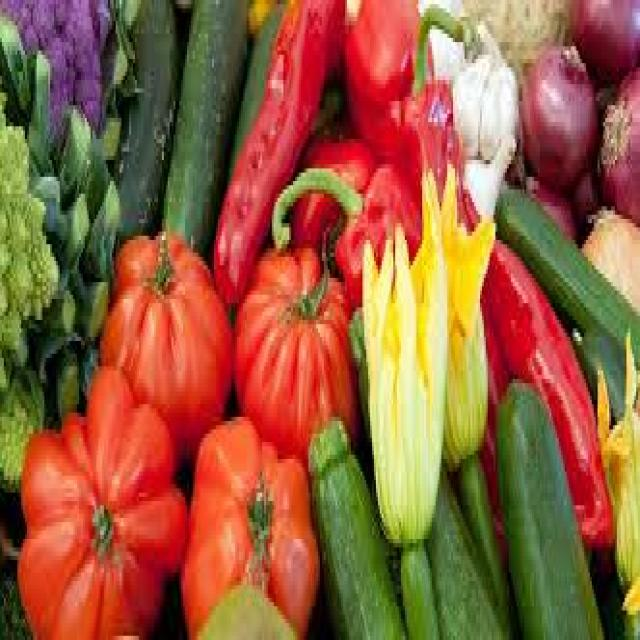organic waste: (0, 0, 638, 636), (389, 4, 611, 543), (0, 12, 118, 572), (347, 299, 499, 636), (15, 358, 185, 636), (212, 0, 345, 299), (177, 404, 322, 628), (99, 223, 234, 463), (492, 181, 638, 387), (360, 168, 438, 539), (232, 236, 361, 455), (405, 164, 495, 472), (496, 374, 602, 632), (306, 408, 406, 636), (158, 0, 245, 257), (268, 152, 420, 299), (0, 0, 139, 152), (0, 76, 52, 476), (110, 0, 179, 240), (341, 0, 430, 152), (598, 324, 638, 636), (426, 21, 517, 152), (455, 442, 515, 636), (289, 118, 374, 248), (520, 42, 596, 185), (228, 0, 280, 198), (573, 198, 638, 316), (600, 59, 638, 227), (566, 311, 624, 417), (189, 581, 297, 636), (509, 152, 571, 236), (567, 0, 638, 72), (396, 535, 444, 636), (460, 126, 512, 219), (570, 156, 596, 223), (0, 572, 27, 636), (318, 84, 343, 135), (245, 0, 272, 38)
